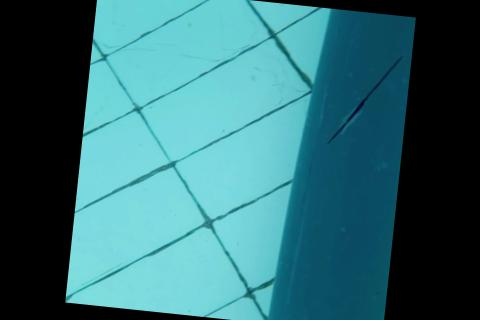keretakan: (330, 50, 399, 148)
